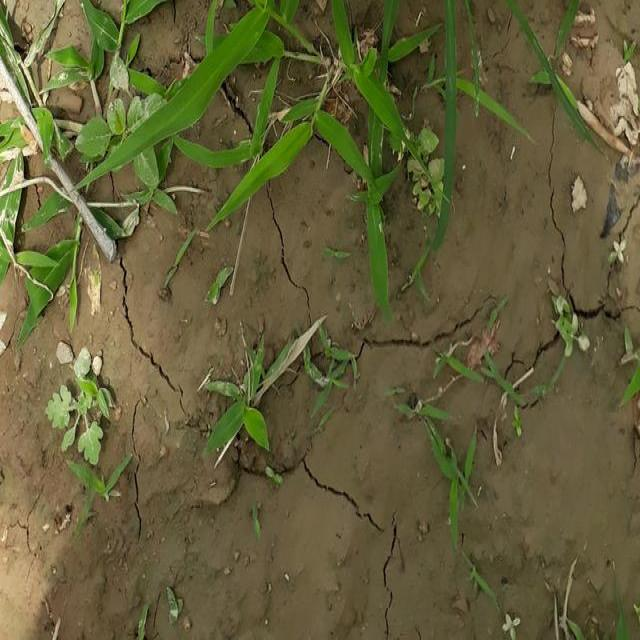weed: (0, 23, 446, 268)
